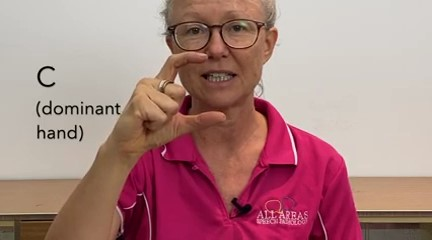C: (122, 42, 232, 148)
